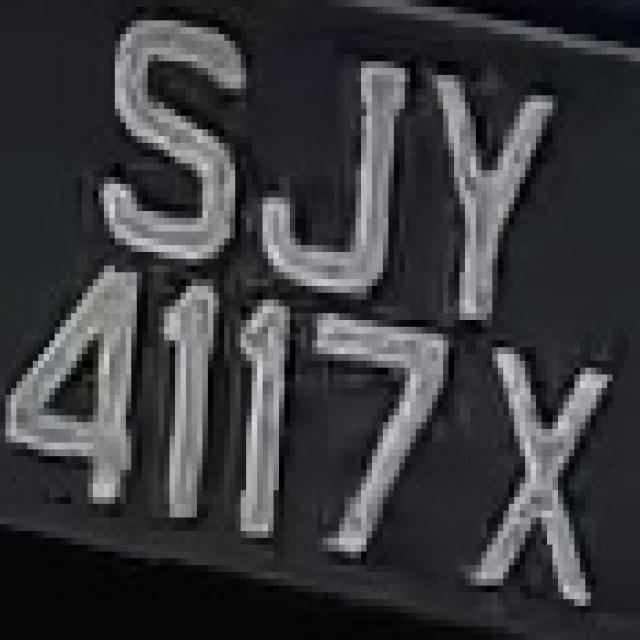1: (148, 272, 235, 545), (235, 259, 290, 565)
4: (0, 231, 148, 538)
7: (306, 300, 448, 599)
J: (246, 14, 421, 313)
S: (82, 7, 246, 286)
X: (465, 327, 607, 606)
Y: (410, 41, 558, 347)
